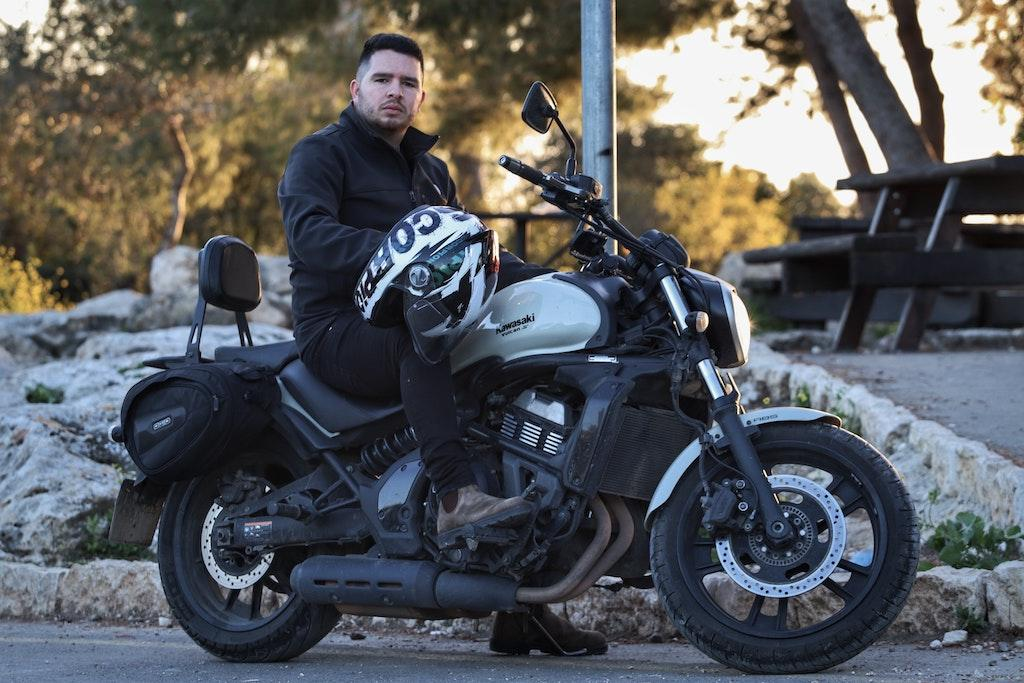helmet: (351, 202, 501, 369)
nohelmet: (349, 31, 426, 142)
